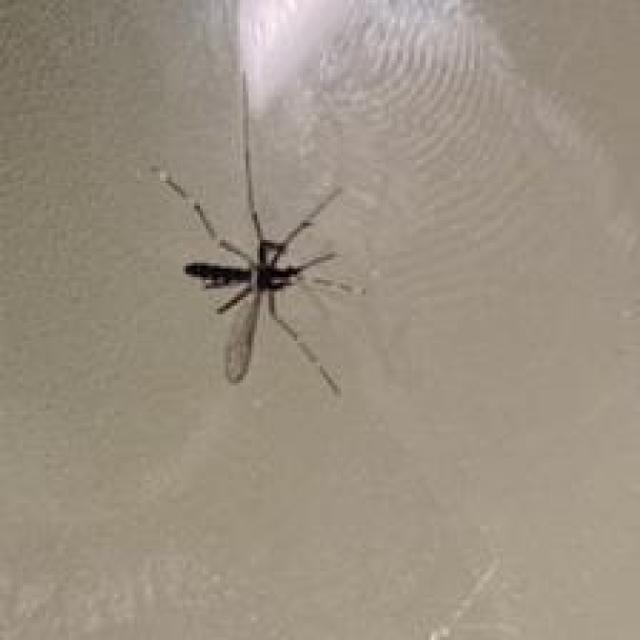Aedes albopictus: (152, 69, 368, 397)
